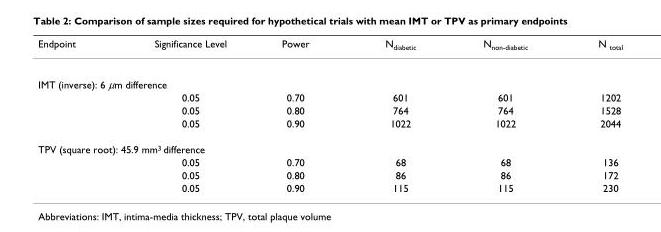table: (37, 37, 622, 193)
table column: (114, 37, 253, 193), (448, 37, 562, 193), (346, 37, 448, 193), (253, 37, 346, 193), (37, 37, 114, 193), (562, 37, 622, 193)
table column header: (37, 37, 622, 63)
table projected row header: (37, 63, 622, 90), (37, 135, 622, 155)
table row: (37, 63, 622, 90), (37, 37, 622, 63), (37, 135, 622, 155), (37, 116, 622, 135), (37, 90, 622, 103), (37, 103, 622, 116), (37, 155, 622, 168), (37, 168, 622, 181), (37, 181, 622, 193)
